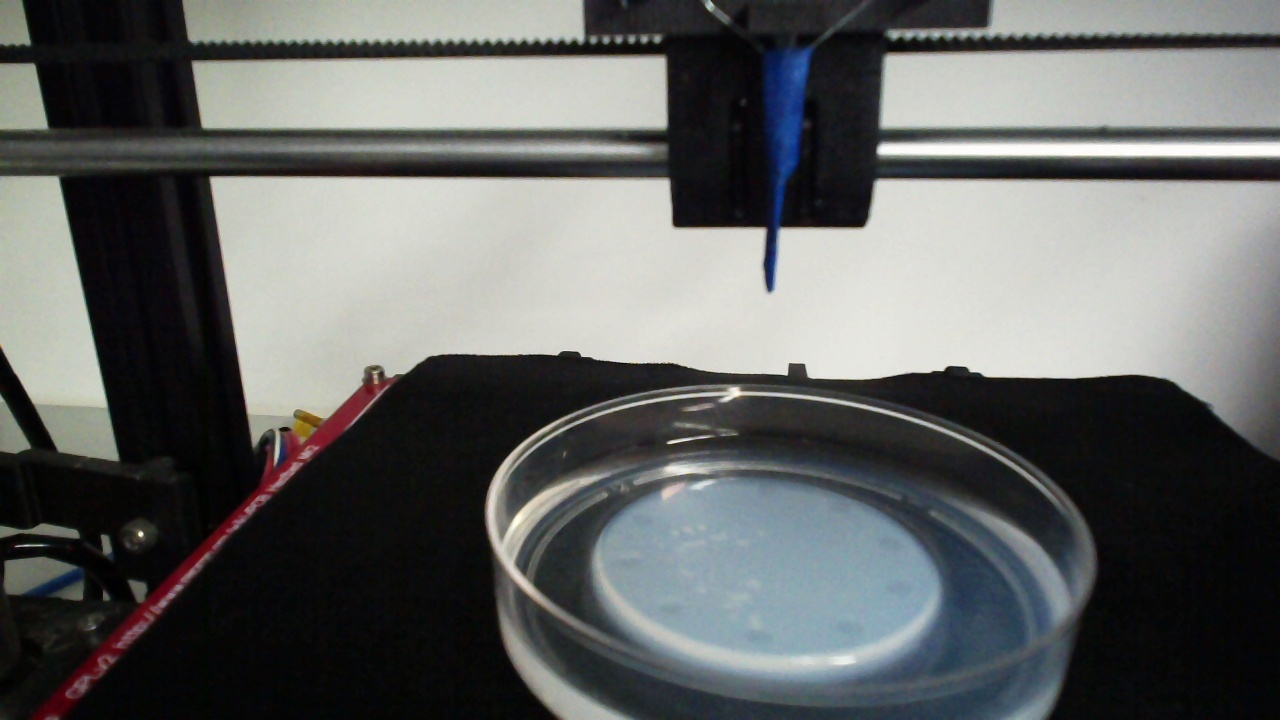groove: (612, 554, 645, 574), (742, 628, 774, 648), (885, 579, 915, 598), (836, 622, 867, 640), (878, 534, 903, 554), (632, 511, 655, 532), (827, 498, 852, 517), (754, 480, 780, 498), (654, 602, 681, 619)
needle: (763, 52, 809, 292)
